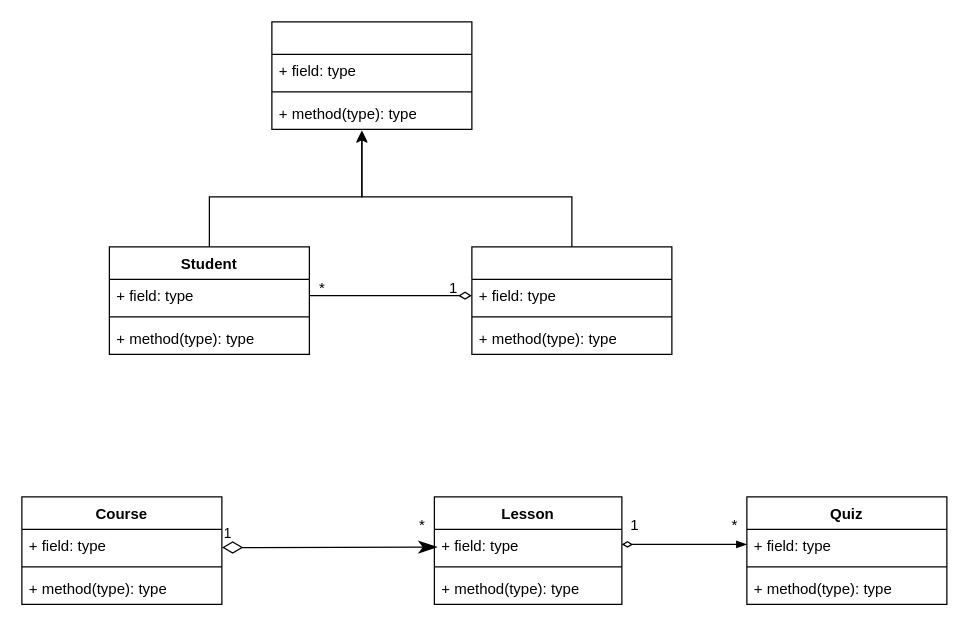
Image size: 969x630. Some labels were removed from this diagram. The box of each missing label's shape, as (x1, y1, x2, y2) in pixels:
Teacher: (471, 246, 672, 354)
User: (271, 21, 472, 129)
